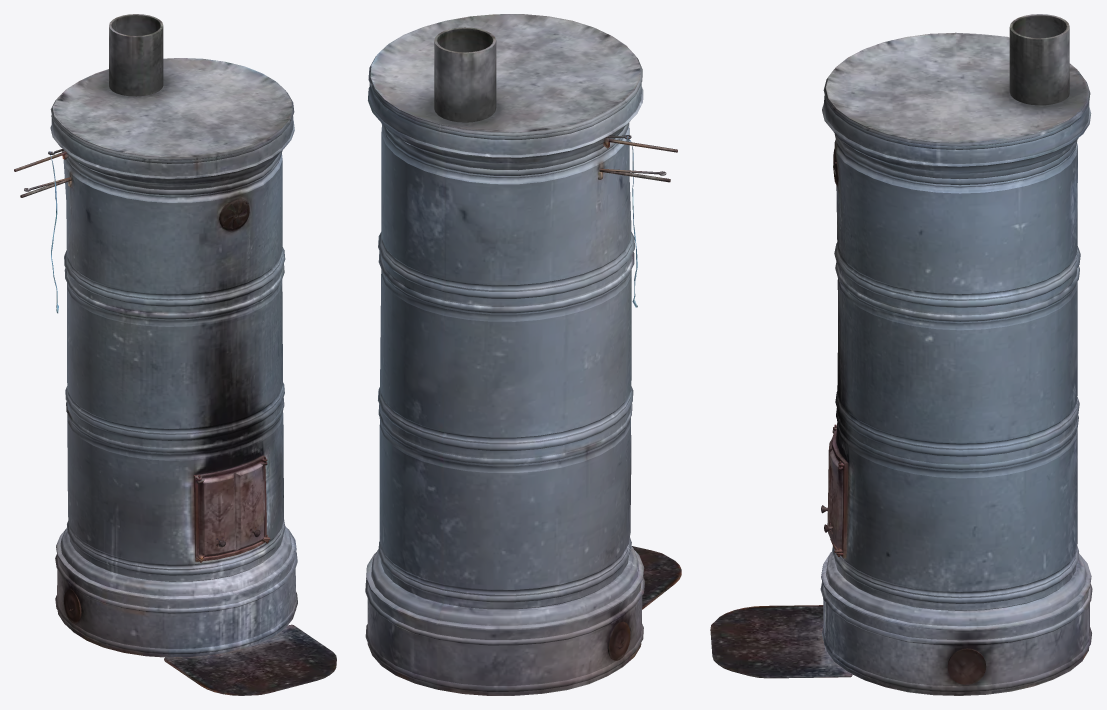
Rendered from scandinavian_masonry_heater.glb.
3 renders of one model, left to right at view 1: azimuth 30°, elevation 25°; view 2: azimuth 150°, elevation 25°; view 3: azimuth 270°, elevation 25°, orthographic. The views are drawn at different scales.
Visible parts, largest first — view 1: scandinavian_masonry_heater; view 2: scandinavian_masonry_heater; view 3: scandinavian_masonry_heater.
Part boxes in pixels (bbox=[...]): scandinavian_masonry_heater: bbox=[14, 14, 336, 695]; scandinavian_masonry_heater: bbox=[365, 14, 681, 695]; scandinavian_masonry_heater: bbox=[710, 14, 1092, 695].
Size of the model in its own units: 1.17 by 2.36 by 1.34.
1 material, 1 textured.
